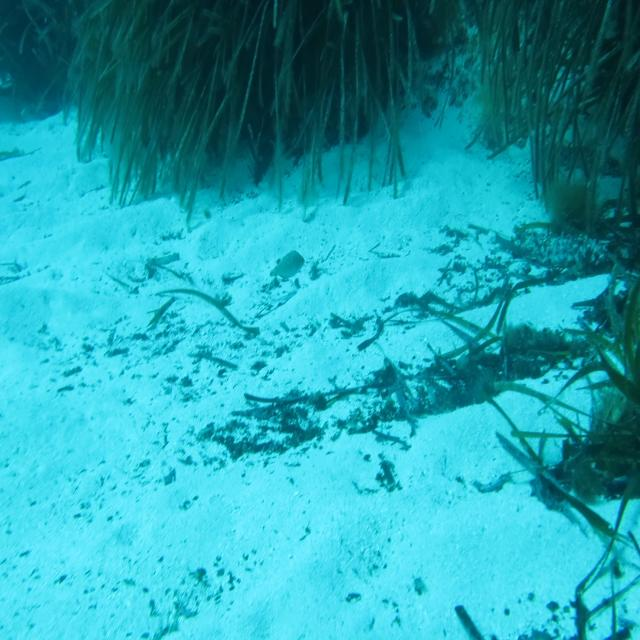SA: (255, 244, 308, 288)
vegetation: (0, 0, 640, 198), (387, 289, 640, 514)
